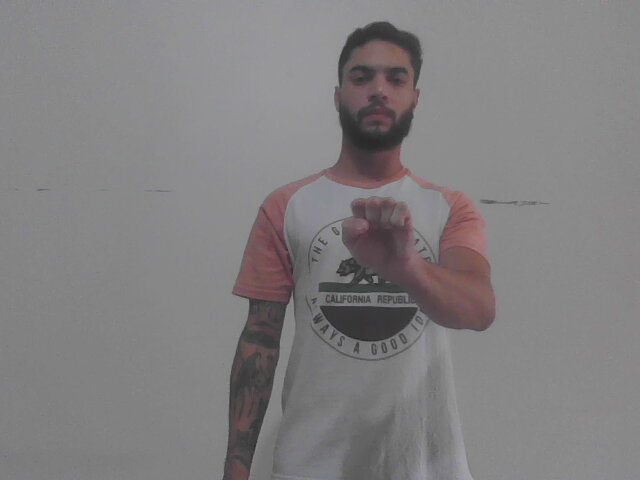s: (339, 191, 425, 282)
